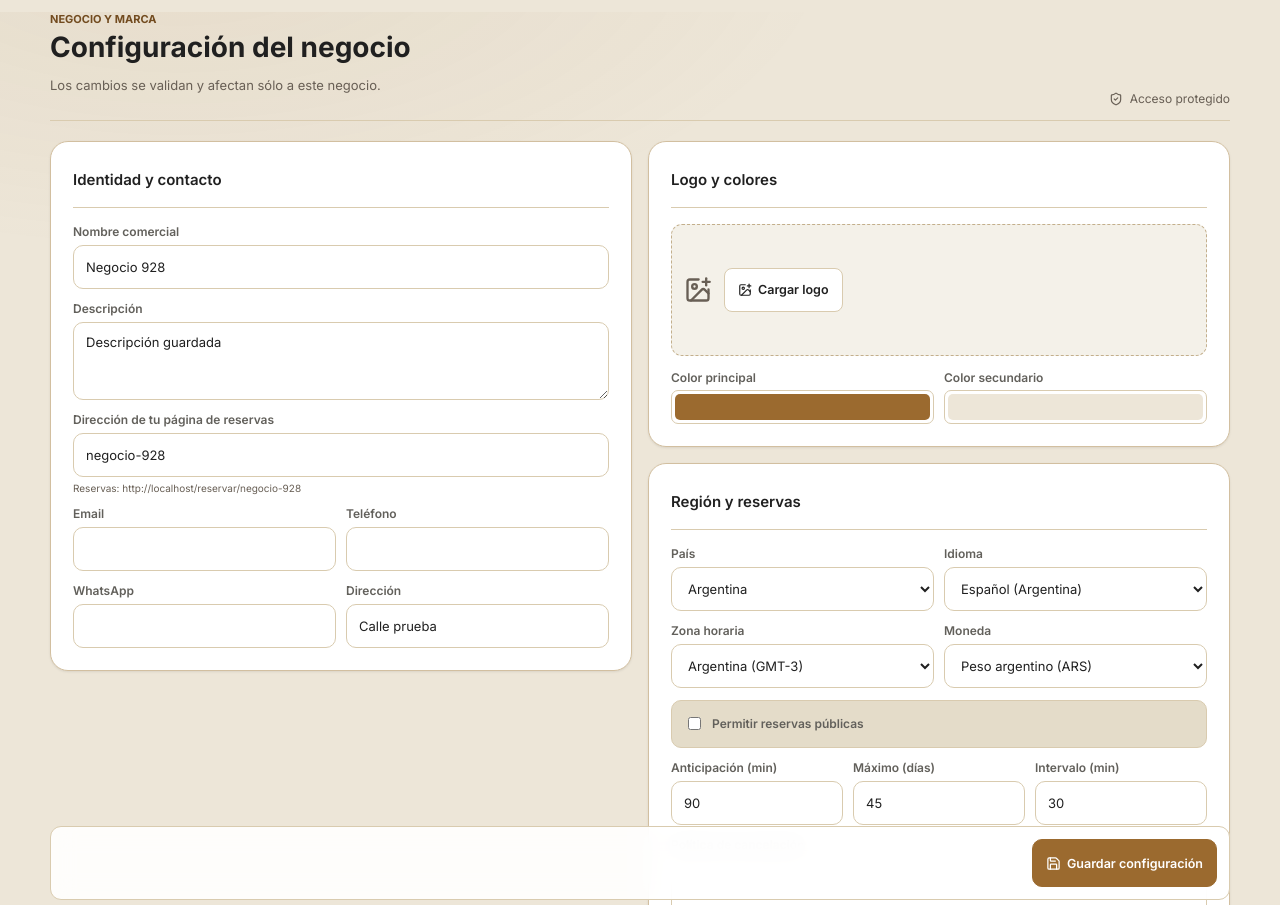
Configuración: lectura fallida y conservación de borradores › usa la respuesta guardada autoritativa sin otra lectura que pueda pisarla
Expected: the field labelled "Nombre comercial" is shown, [73,245,609,289]
Click the button "Guardar configuración". click: click(1124, 863)
box: [1032,839,1217,887]
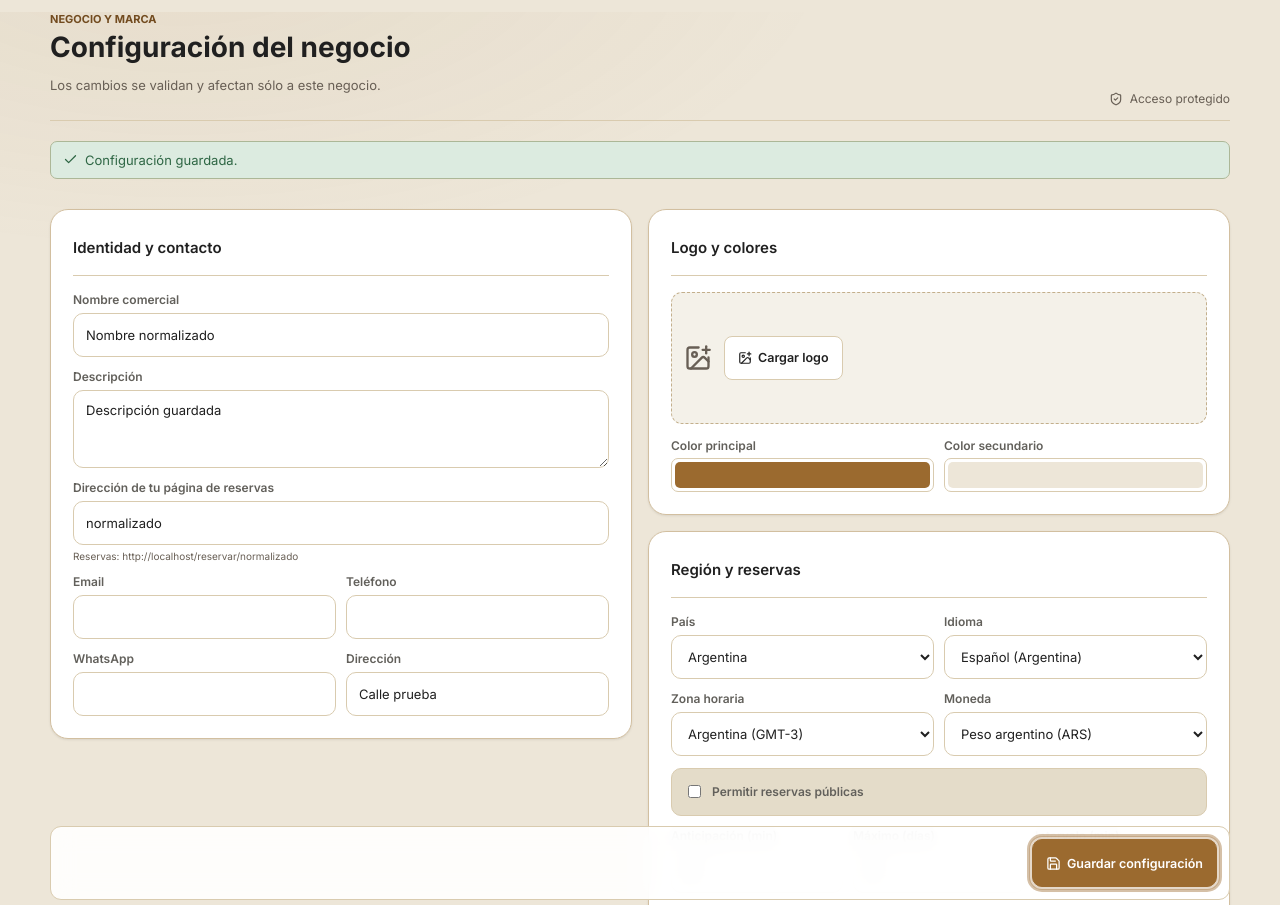
Expected: the text "Configuración guardada." is shown, [50,141,1230,179]
Expected: the field labelled "Nombre comercial" holds "Nombre normalizado", [73,313,609,357]
Expected: the field labelled "Dirección de tu página de reservas" holds "normalizado", [73,501,609,545]
